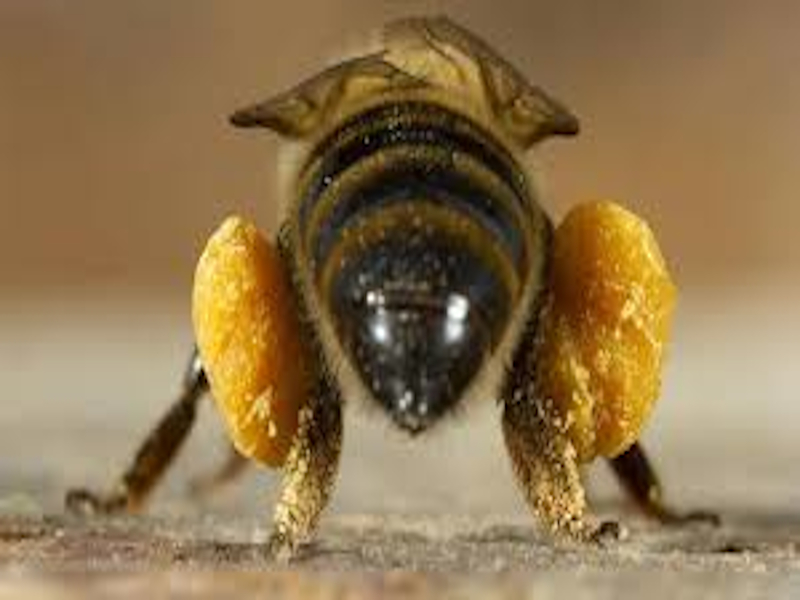abeja: (103, 18, 720, 564)
